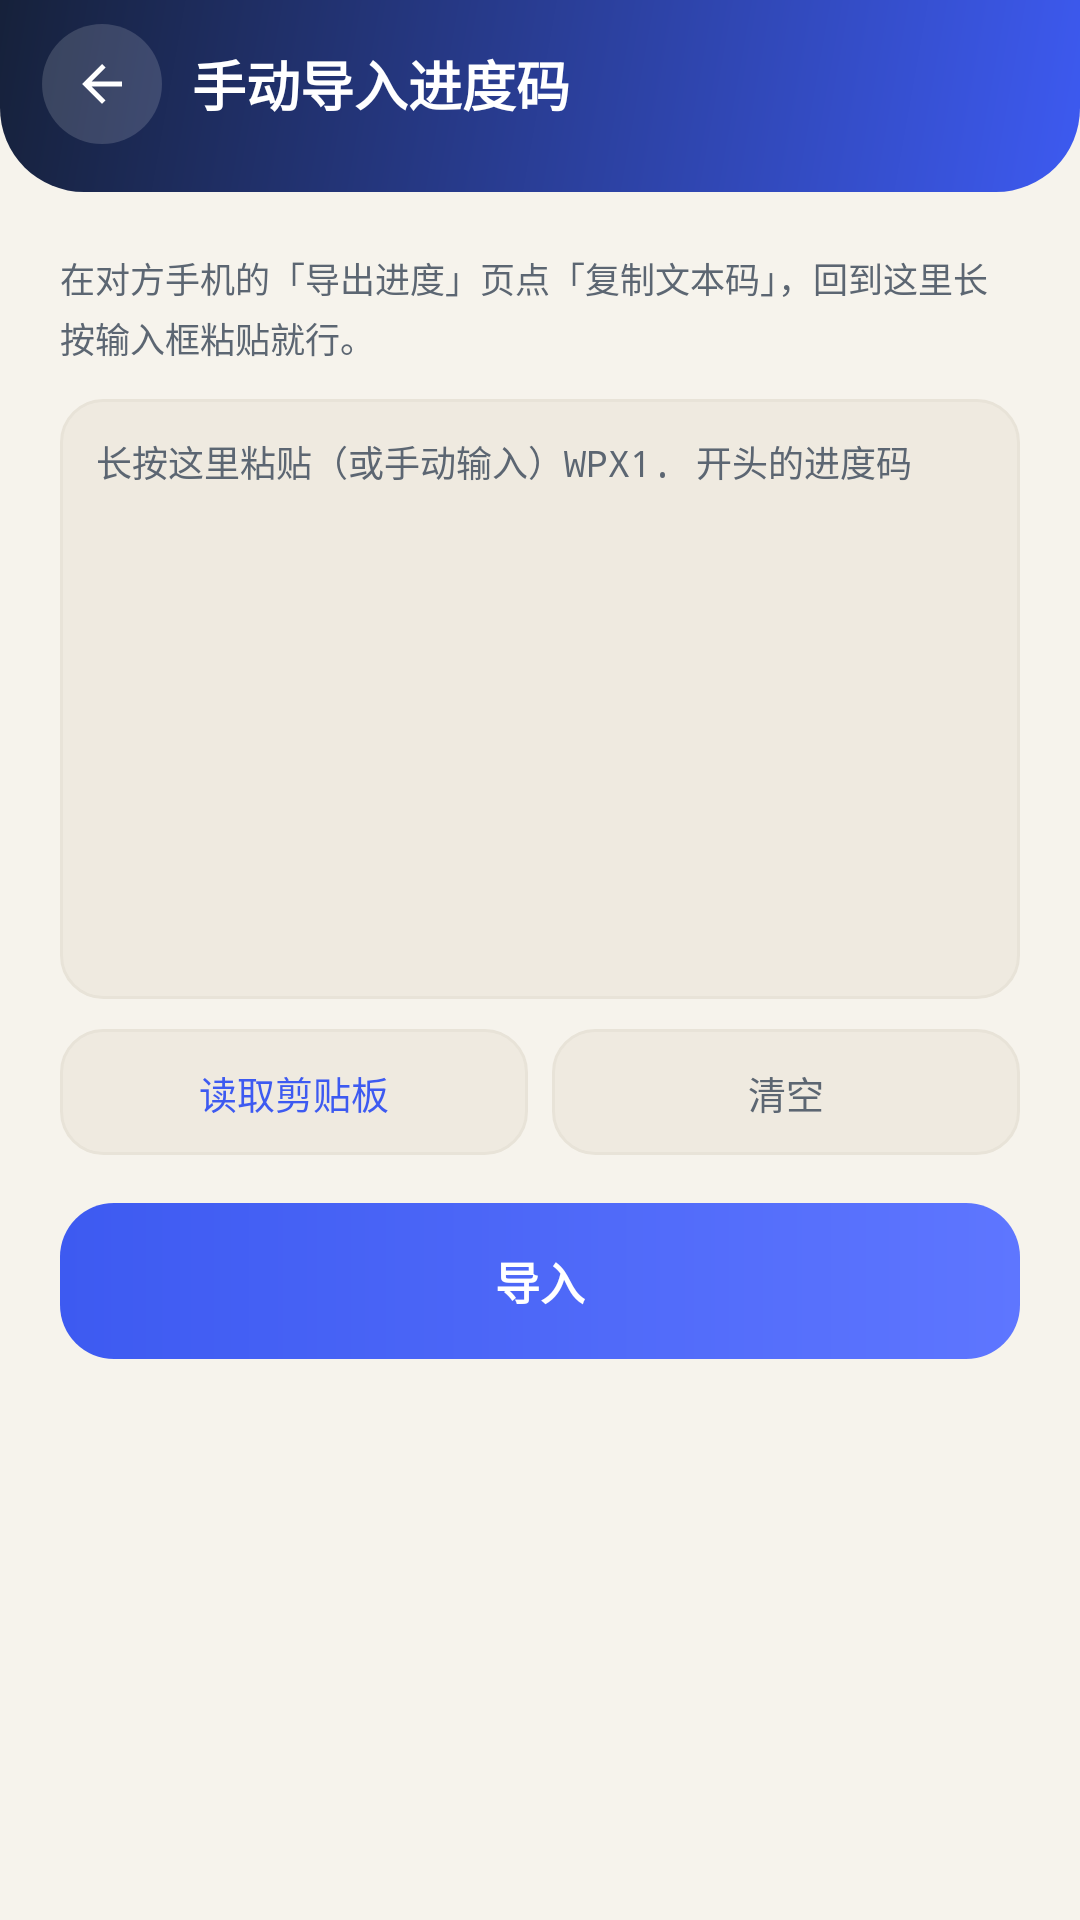

Locate icon controls on the screen. Image size 1080x1920, boxes as (x1, y1, x2, y2).
back: (42, 24, 162, 144)
